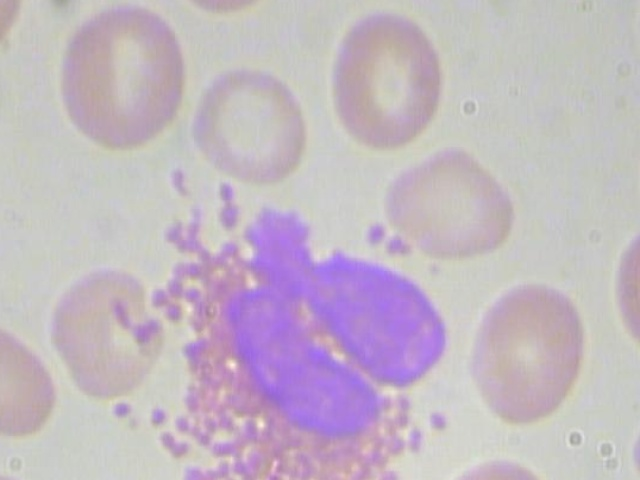RBC: (453, 271, 601, 429), (51, 0, 199, 153), (326, 0, 448, 159), (328, 0, 450, 157), (46, 253, 174, 398), (376, 139, 520, 265), (189, 63, 310, 189), (0, 321, 61, 443), (604, 210, 640, 368), (161, 0, 282, 13)
WBC: (101, 157, 461, 480)
